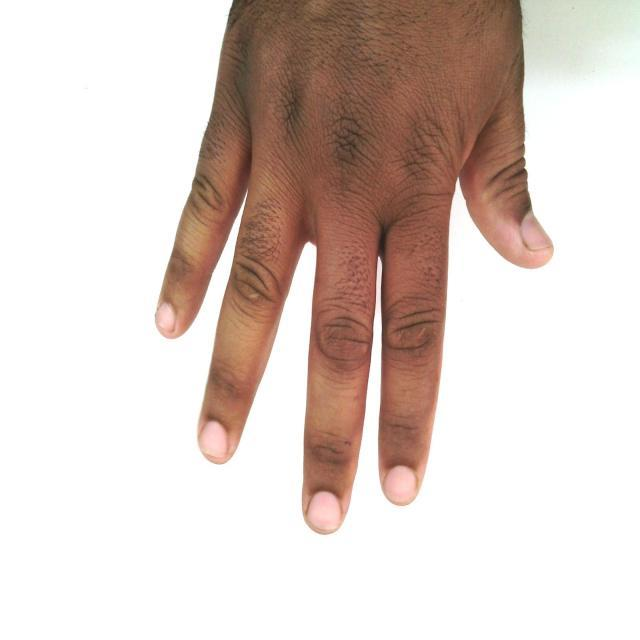Fingernail: (307, 492, 341, 531), (385, 466, 416, 503), (521, 215, 552, 252), (200, 423, 228, 459), (156, 304, 175, 332)
